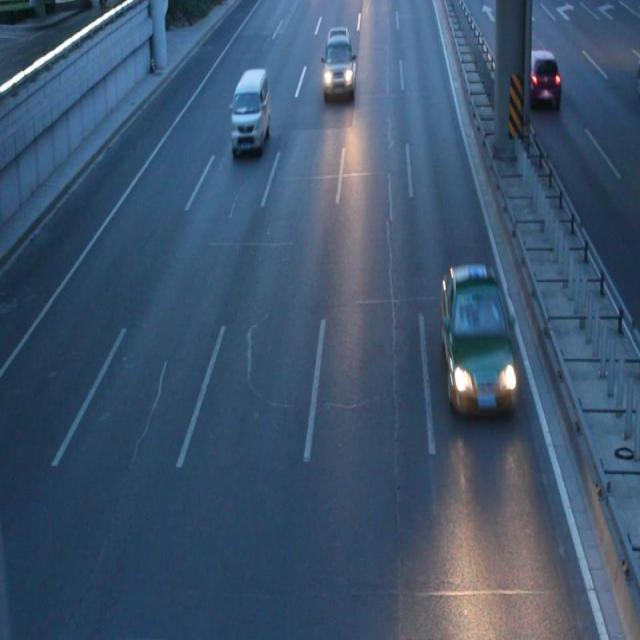car: (438, 266, 518, 413)
truck: (230, 67, 270, 155), (320, 28, 355, 99)
